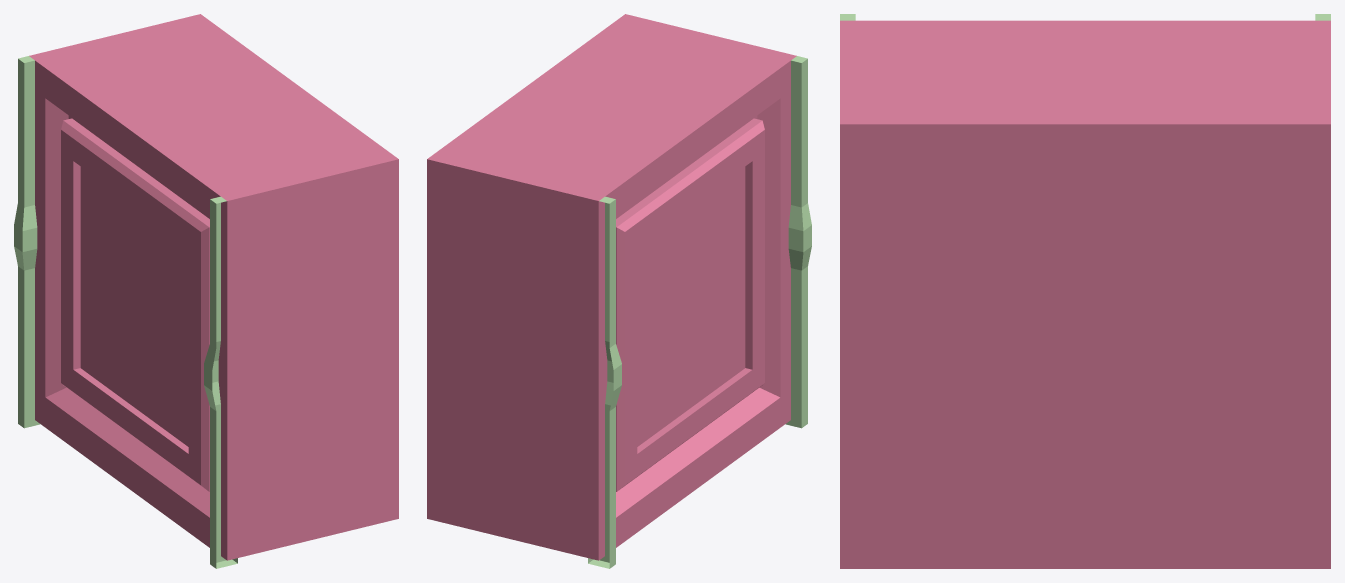
The model's file is block_wall_hot0.fbx.
3 views of the same model, side by side, from view 1: azimuth 30°, elevation 25°; view 2: azimuth 150°, elevation 25°; view 3: azimuth 270°, elevation 25° (orthographic). The views are drawn at different scales.
Visible parts, largest first — view 1: Cube.001; view 2: Cube.001; view 3: Cube.001.
Part boxes in pixels (bbox=[...]): Cube.001: bbox=[14, 14, 398, 568]; Cube.001: bbox=[427, 14, 811, 568]; Cube.001: bbox=[840, 14, 1330, 568].
Bounding box in the file's own units: 217 × 406 × 400.
